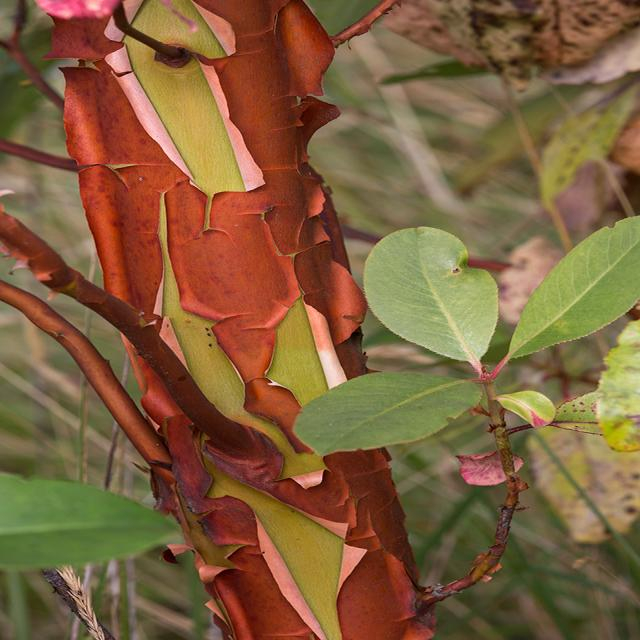Arbutus menziesii: (0, 1, 640, 640)
